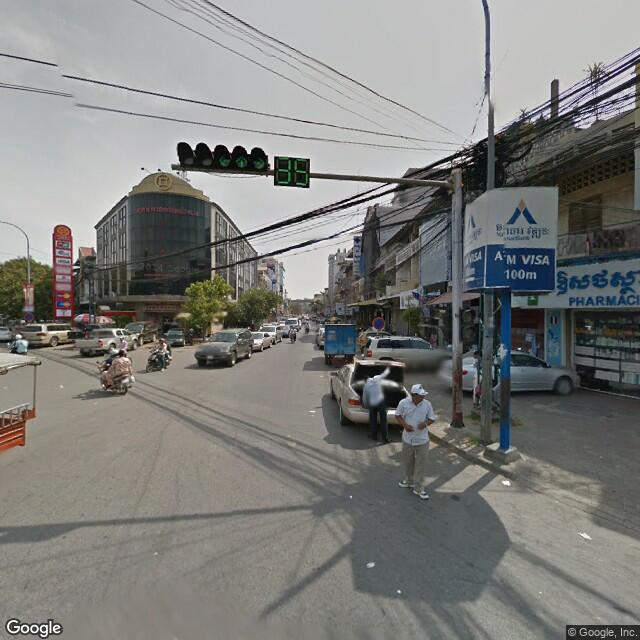litter: (488, 469, 526, 491), (567, 523, 599, 544), (51, 373, 70, 397), (300, 402, 323, 421), (361, 558, 382, 577)
